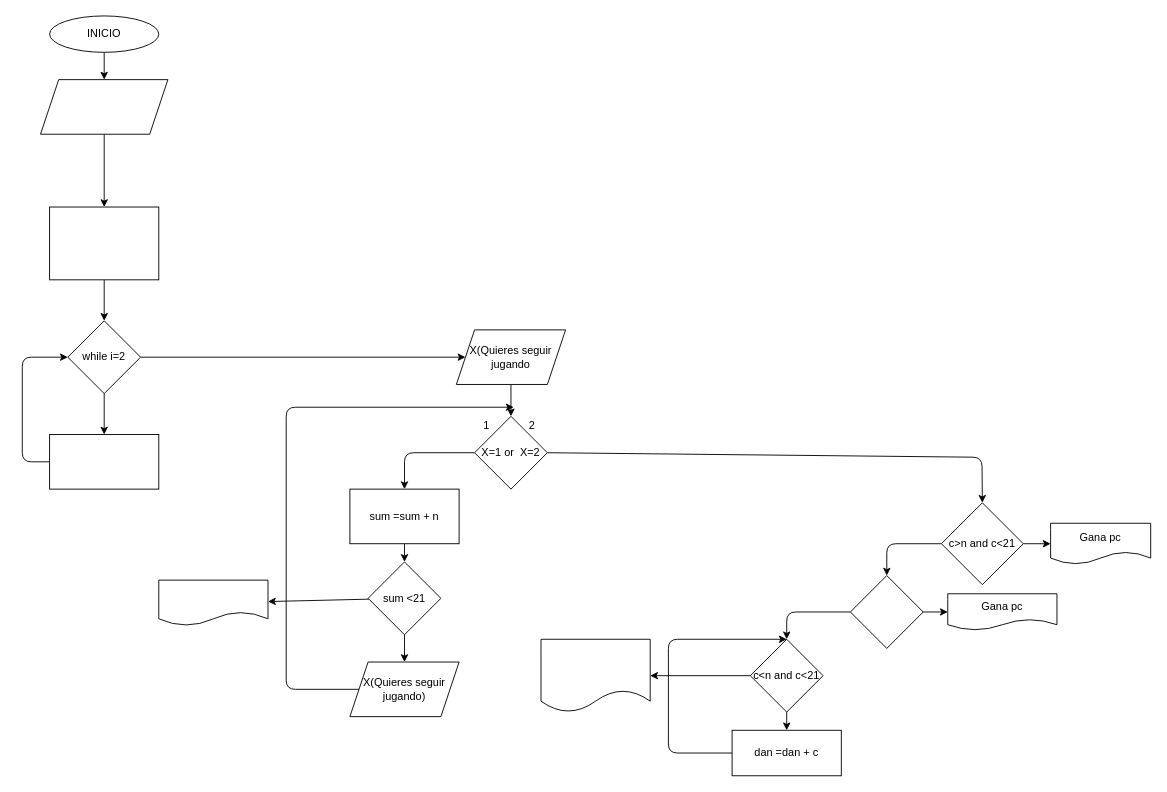
This 1167x792 diagram has some shape labels left out. Here are the shapes that lost their labels. From the top down, the centre of each, then its label:
At pixel 104 106: "import random".
At pixel 104 243: "import random= c import random=n i =0 sum=0 dan=0".
At pixel 104 461: "sum =sum +c dan=dan + n i=I+1".
At pixel 213 602: "Volaste".
At pixel 886 611: "c==n".
At pixel 595 675: "El tallador volo gana el jugador".
